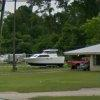Boat: (22, 48, 63, 70)
